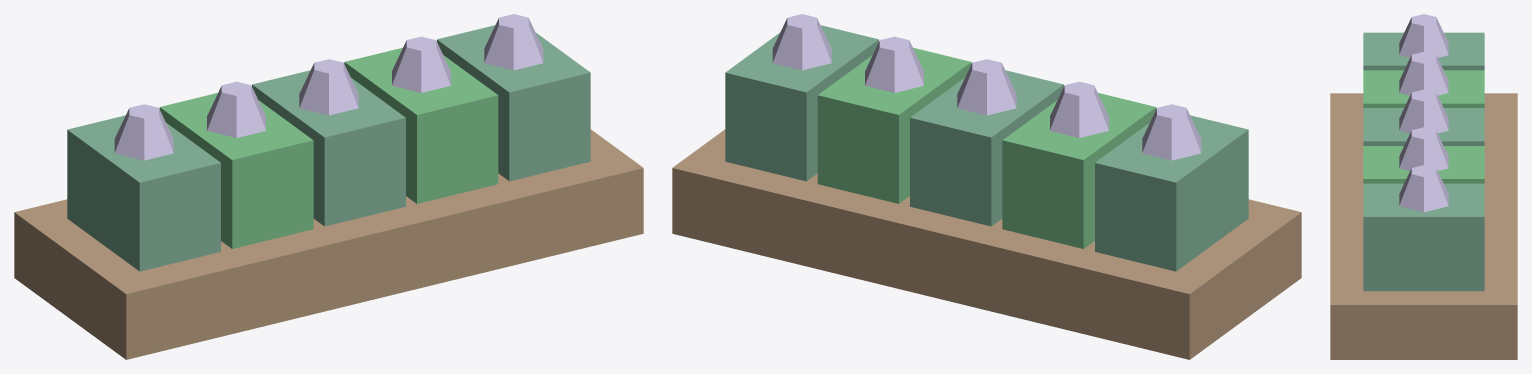
File: flora_45_rosmarinus_officinalis_luong_huong_thao_va_bac_ha_au_da_lat.glb
The picture shows the model from 3 angles, left to right: view 1: azimuth 30°, elevation 25°; view 2: azimuth 150°, elevation 25°; view 3: azimuth 270°, elevation 25°; orthographic projection. The views are drawn at different scales.
Visible parts, largest first — view 1: flora_45_rosmarinus_officinalis_luong_huong_thao_va_bac_ha_a; view 2: flora_45_rosmarinus_officinalis_luong_huong_thao_va_bac_ha_a; view 3: flora_45_rosmarinus_officinalis_luong_huong_thao_va_bac_ha_a.
Boxes of the visible parts, <box> form: flora_45_rosmarinus_officinalis_luong_huong_thao_va_bac_ha_a: <box>14,14,643,359</box>; flora_45_rosmarinus_officinalis_luong_huong_thao_va_bac_ha_a: <box>672,14,1301,359</box>; flora_45_rosmarinus_officinalis_luong_huong_thao_va_bac_ha_a: <box>1330,14,1517,359</box>.
Bounding box in the file's own units: 2.8 × 0.98 × 1.05.
